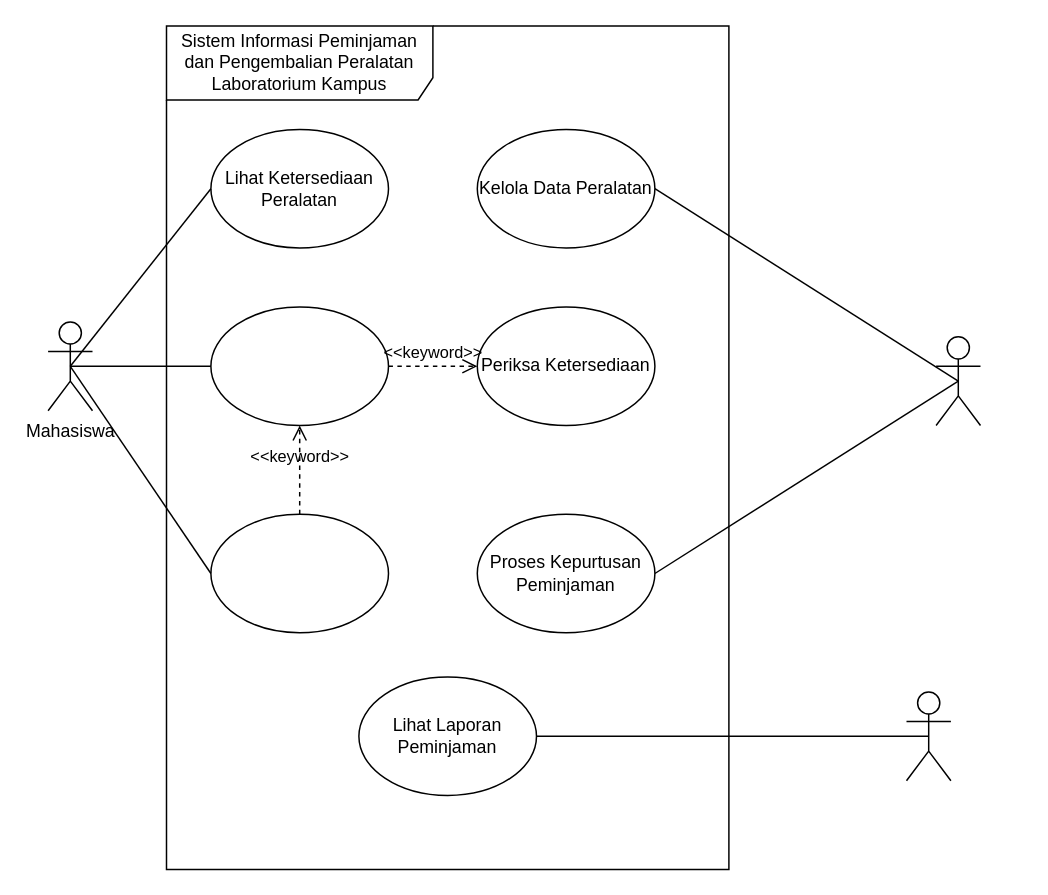
The diagram is 1048 pixels wide and 895 high, and some of its shapes have lost their labels. The shapes that lost their labels are listed below. From the top down, each one's centre as x and y in pixels, then its label:
(298,366): Ajukan Peminjaman
(957,380): Petugas laporan
(298,573): Cetak Bukti Pengajuan
(928,735): Kepala Laboratorium
